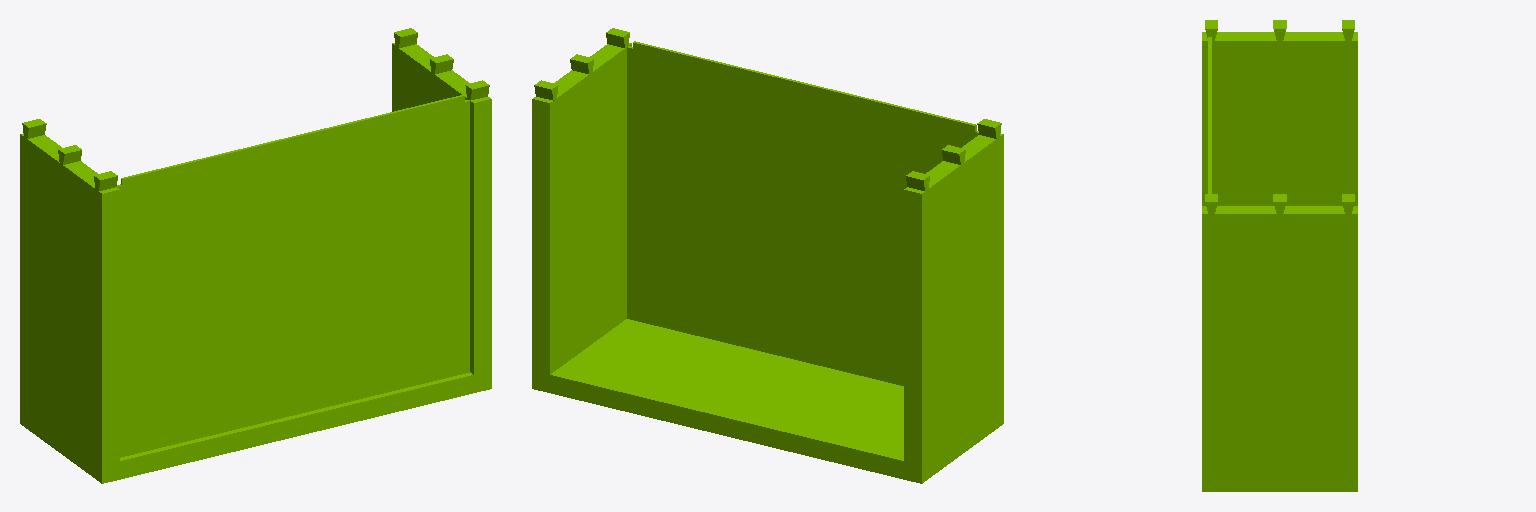
URDF robot description (cube.urdf):
<?xml version="0.0" ?>
<robot name="cube.urdf">
  <link name="baseLink">
    <contact>
      <lateral_friction value="2.0"/>
      <inertia_scaling value="3.0"/>
    </contact>
    <inertial>
      <origin rpy="0 0 0" xyz="0 0 0"/>
       <mass value=".05"/>
       <inertia ixx="1" ixy="0" ixz="0" iyy="1" iyz="0" izz="1"/>
    </inertial>
    <visual>
      <origin rpy="0 0 0" xyz="0 0 0"/>
      <geometry>
        <mesh filename="model_new.obj" scale="0.8 0.8 0.8"/>
      </geometry>
       <material name="white">
        <color rgba="0.54 0.8 0 1"/>
      </material>
    </visual>
    <collision>
      <origin rpy="0 0 0" xyz="0 0 0"/>
      <geometry>
        <mesh filename="model_new.obj" scale="0.8 0.8 0.8"/>
      </geometry>
    </collision>
  </link>
</robot>

--- Facts derived from the render (not from the file) ---
The picture shows the robot from 3 angles, left to right: view 1: azimuth 30°, elevation 25°; view 2: azimuth 150°, elevation 25°; view 3: azimuth 270°, elevation 25°; orthographic projection.
Model cube.urdf with 1 links and 0 joints (none), rooted at baseLink, posed all joints at 0.
Links seen in each view (by area): view 1: baseLink; view 2: baseLink; view 3: baseLink.
Link boxes in pixels (x1,y1,x2,y2): baseLink: [20, 28, 491, 483]; baseLink: [532, 28, 1003, 483]; baseLink: [1202, 20, 1357, 491].
Bounding box of the posed robot: 0.3353 × 0.1219 × 0.2489 m (x, y, z).
Meshes: 1 distinct files referenced, 1 mesh visuals loaded (1 OBJ).